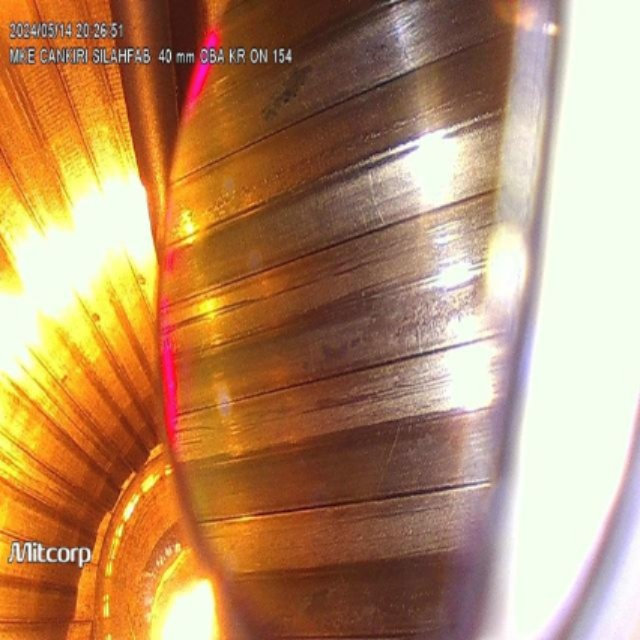hata_8.1: (171, 168, 480, 343)
hata_9.2: (262, 67, 314, 130)
